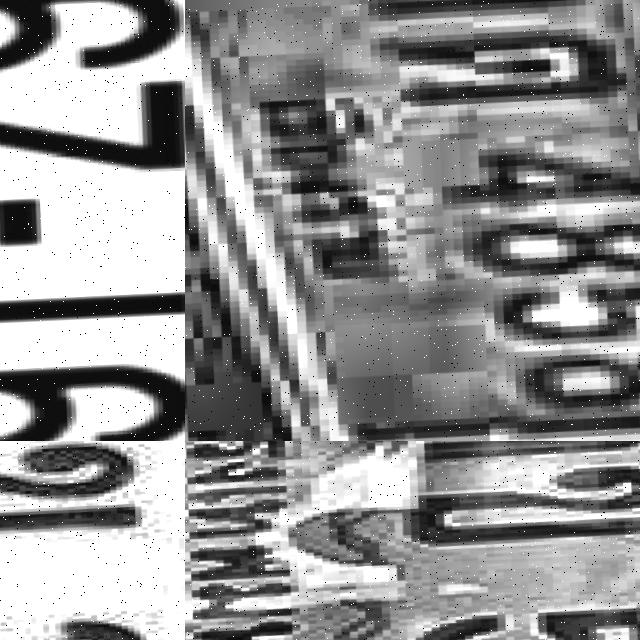license-plate: (185, 0, 640, 441), (185, 441, 640, 640), (0, 0, 185, 441), (0, 441, 185, 640)
